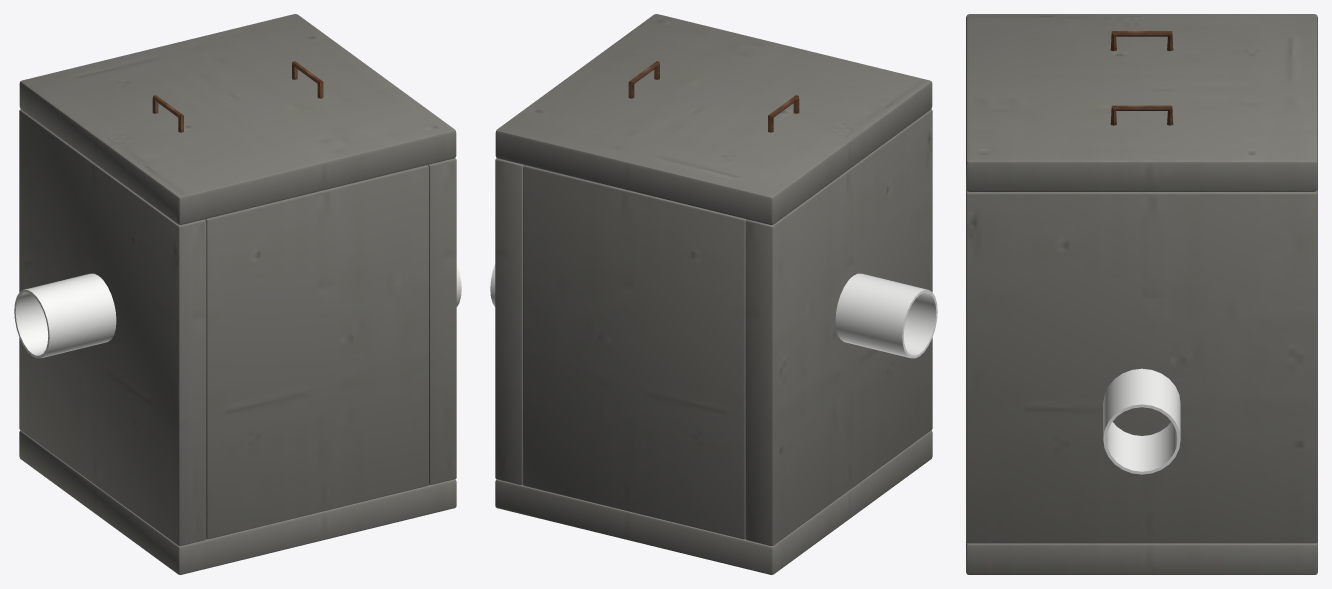
Rendered from HID-CXS-004_lod1.glb.
3 renders of one model, left to right at view 1: azimuth 30°, elevation 25°; view 2: azimuth 150°, elevation 25°; view 3: azimuth 270°, elevation 25°, orthographic. The views are drawn at different scales.
Parts seen in each view (by area): view 1: HID-CXS-004_py-1, HID-CXS-004_tampa, HID-CXS-004_px-1, HID-CXS-004_fundo, HID-CXS-004_px1, HID-CXS-004_ent; view 2: HID-CXS-004_py1, HID-CXS-004_tampa, HID-CXS-004_px-1, HID-CXS-004_fundo, HID-CXS-004_px1, HID-CXS-004_ent; view 3: HID-CXS-004_px1, HID-CXS-004_tampa, HID-CXS-004_fundo, HID-CXS-004_sai, HID-CXS-004_alca1, HID-CXS-004_alca-1.
Part boxes in pixels (x1=…): HID-CXS-004_py-1: x1=205, y1=165, x2=428, y2=539; HID-CXS-004_tampa: x1=19, y1=14, x2=456, y2=224; HID-CXS-004_px-1: x1=19, y1=109, x2=206, y2=546; HID-CXS-004_fundo: x1=19, y1=430, x2=456, y2=574; HID-CXS-004_px1: x1=428, y1=158, x2=456, y2=484; HID-CXS-004_ent: x1=14, y1=273, x2=116, y2=358; HID-CXS-004_py1: x1=523, y1=165, x2=746, y2=539; HID-CXS-004_tampa: x1=495, y1=14, x2=932, y2=224; HID-CXS-004_px-1: x1=745, y1=109, x2=932, y2=546; HID-CXS-004_fundo: x1=495, y1=430, x2=932, y2=574; HID-CXS-004_px1: x1=495, y1=158, x2=523, y2=484; HID-CXS-004_ent: x1=835, y1=273, x2=937, y2=358; HID-CXS-004_px1: x1=966, y1=189, x2=1317, y2=543; HID-CXS-004_tampa: x1=966, y1=14, x2=1317, y2=191; HID-CXS-004_fundo: x1=966, y1=542, x2=1317, y2=574; HID-CXS-004_sai: x1=1103, y1=368, x2=1180, y2=474; HID-CXS-004_alca1: x1=1110, y1=105, x2=1173, y2=125; HID-CXS-004_alca-1: x1=1110, y1=31, x2=1173, y2=51.
Size of the model in its own units: 0.74 by 0.6781 by 0.5.
3 materials, 2 textured.
